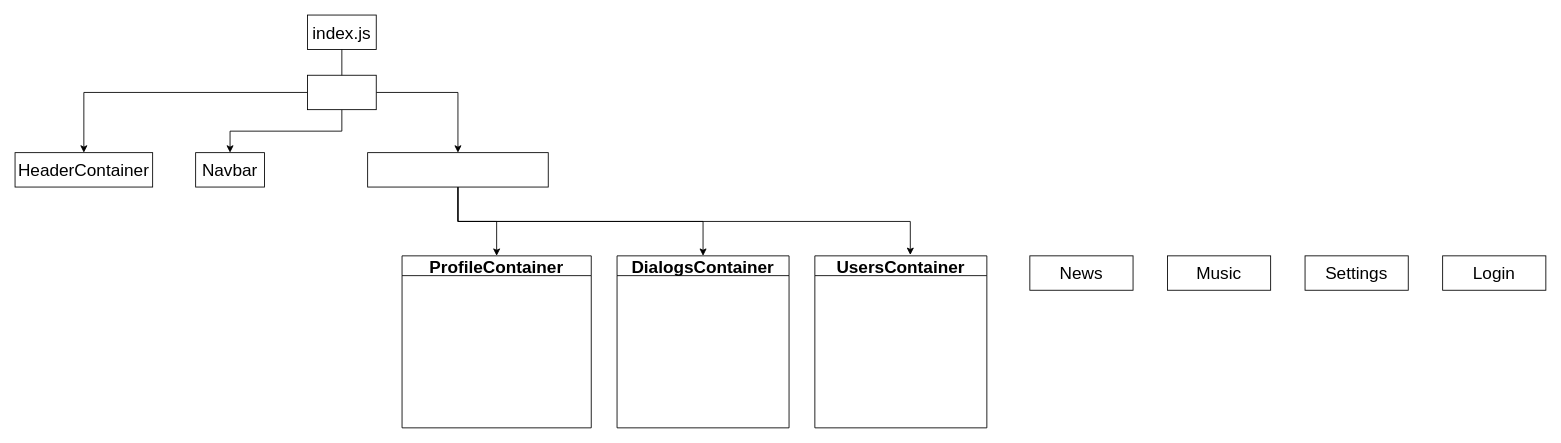
This 1561x443 diagram has some shape labels left out. The centre of each missing label's shape, as x and y in pixels:
"app-wrapper-content" goes at pixel 457 169.
"App.js" goes at pixel 341 92.
